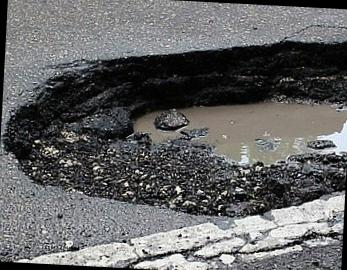pothole: (0, 6, 347, 241)
